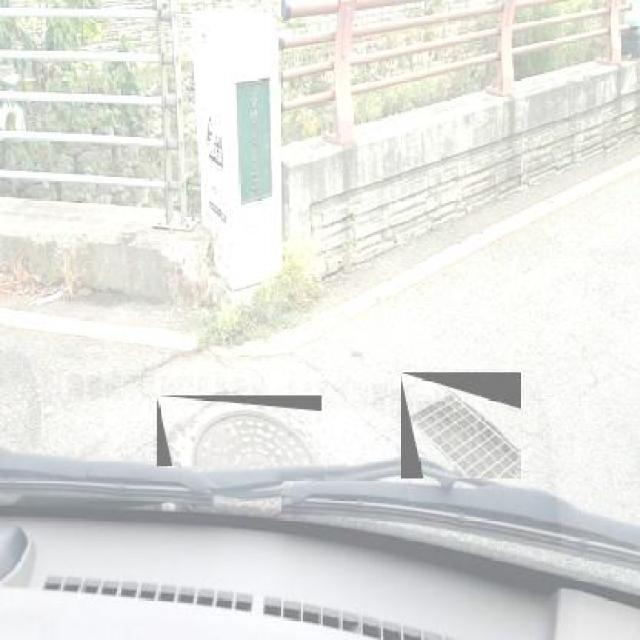Manhole: (401, 372, 521, 478), (156, 396, 322, 466)
Pothole: (164, 342, 226, 364), (348, 348, 367, 361)
